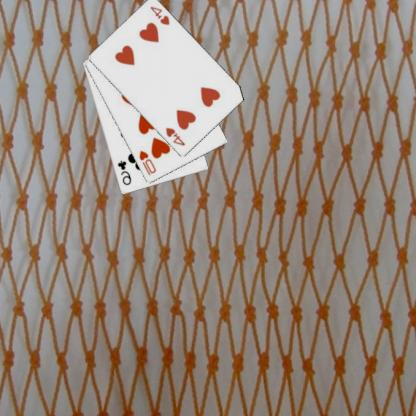10H: (138, 148, 159, 177)
4H: (164, 125, 188, 148), (149, 4, 173, 27)
9C: (116, 158, 134, 186)
